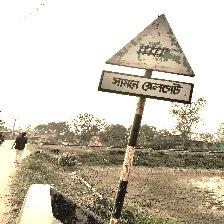Rail-crossing: (100, 14, 196, 105)
